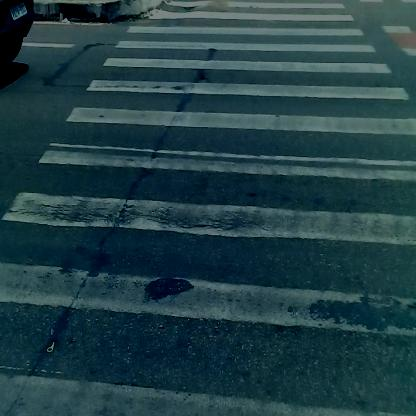crosswalk: (16, 16, 390, 416)
